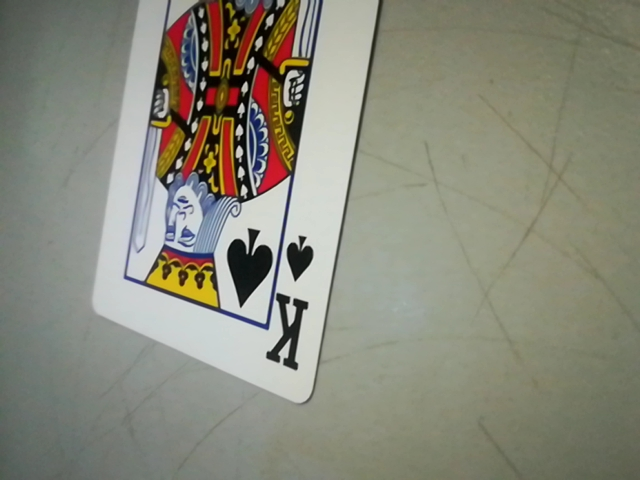ht k: (267, 220, 320, 389)
